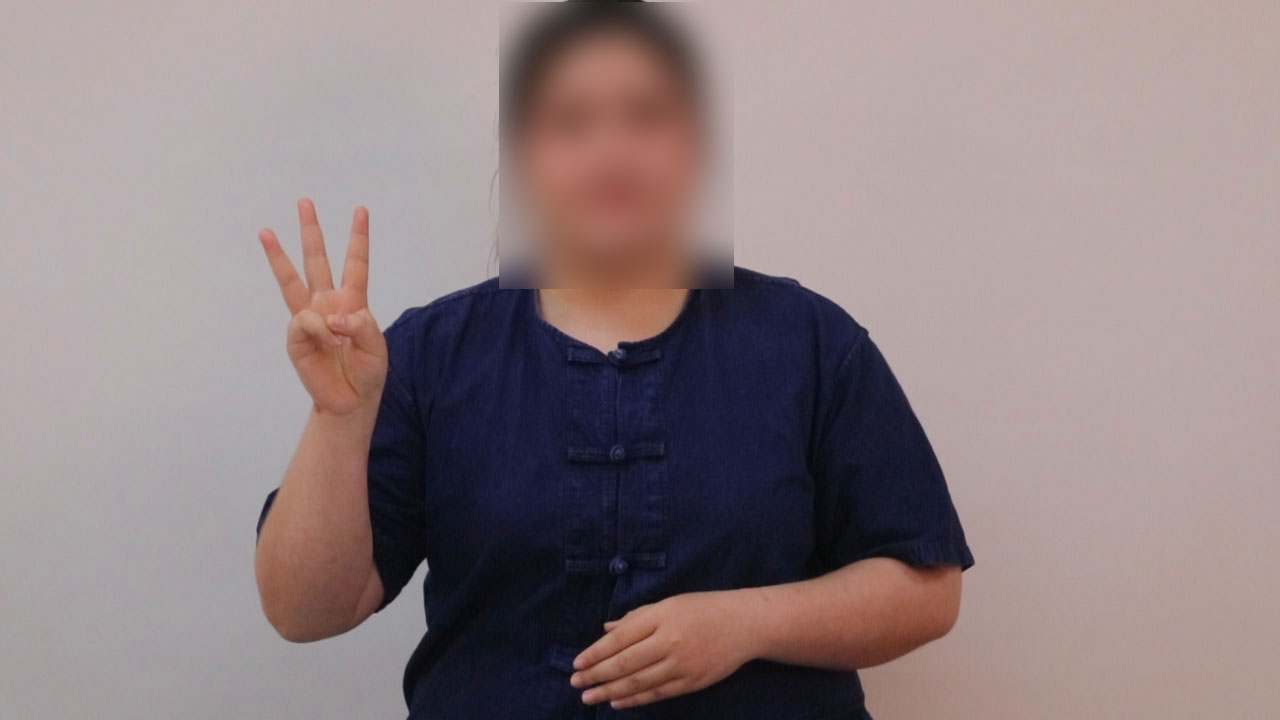wor: (249, 189, 404, 423)
